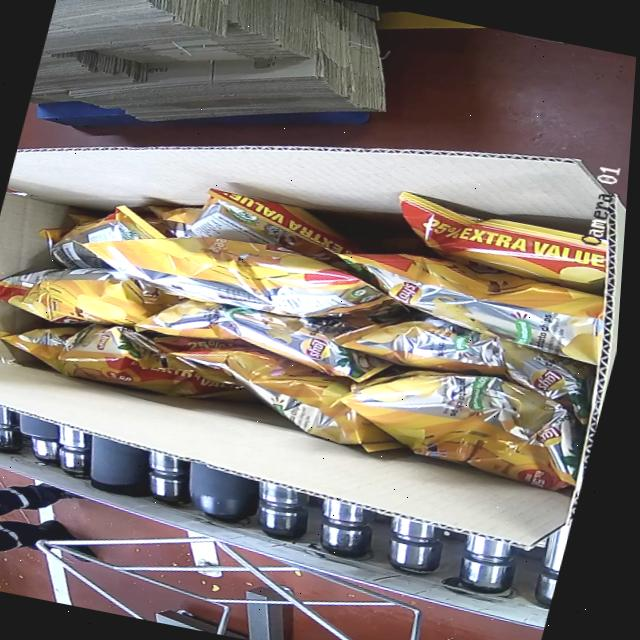FRENCH_CHEESE: (0, 115, 632, 492)
